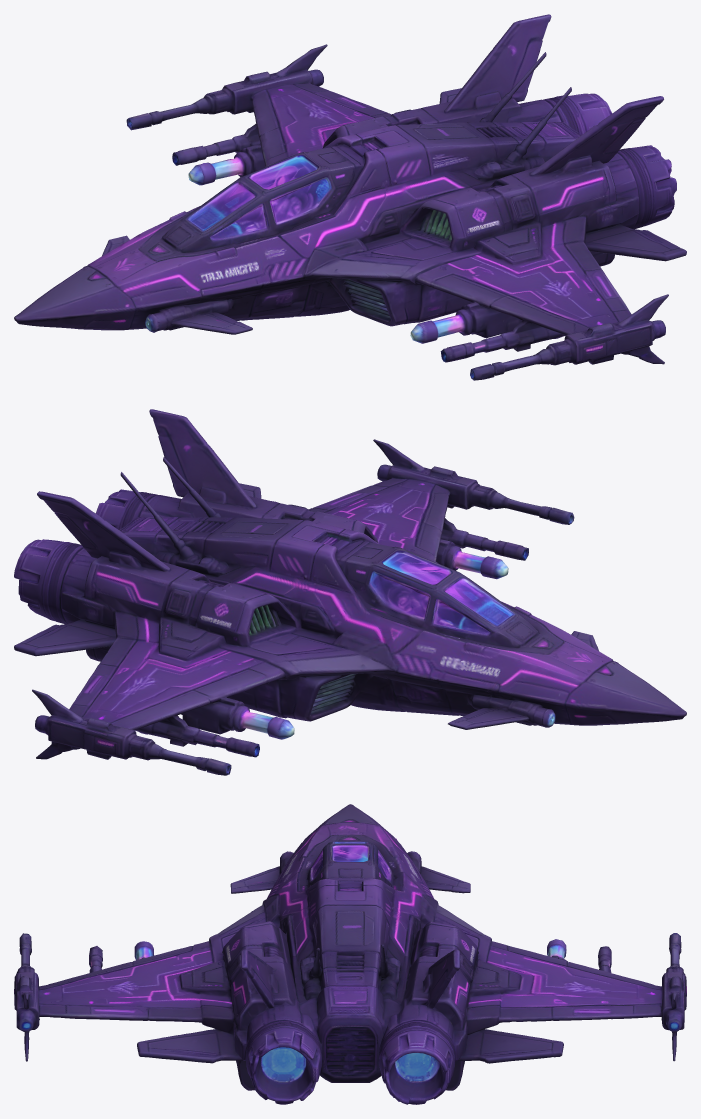
Rendered from Matrix Fighter.glb.
3 views of the same model, one above another, from view 1: azimuth 30°, elevation 25°; view 2: azimuth 150°, elevation 25°; view 3: azimuth 270°, elevation 25° (orthographic). The views are drawn at different scales.
Parts seen in each view (by area): view 1: tripo_node_16ccaa50-fe2d-4ecb-9078-fe085495e37f; view 2: tripo_node_16ccaa50-fe2d-4ecb-9078-fe085495e37f; view 3: tripo_node_16ccaa50-fe2d-4ecb-9078-fe085495e37f.
Part boxes in pixels (x1=…): tripo_node_16ccaa50-fe2d-4ecb-9078-fe085495e37f: x1=14, y1=14, x2=686, y2=380; tripo_node_16ccaa50-fe2d-4ecb-9078-fe085495e37f: x1=14, y1=409, x2=686, y2=775; tripo_node_16ccaa50-fe2d-4ecb-9078-fe085495e37f: x1=14, y1=804, x2=686, y2=1104.
Bounding box in the file's own units: 1 × 0.2618 × 0.9891.
1 material, 1 textured.
